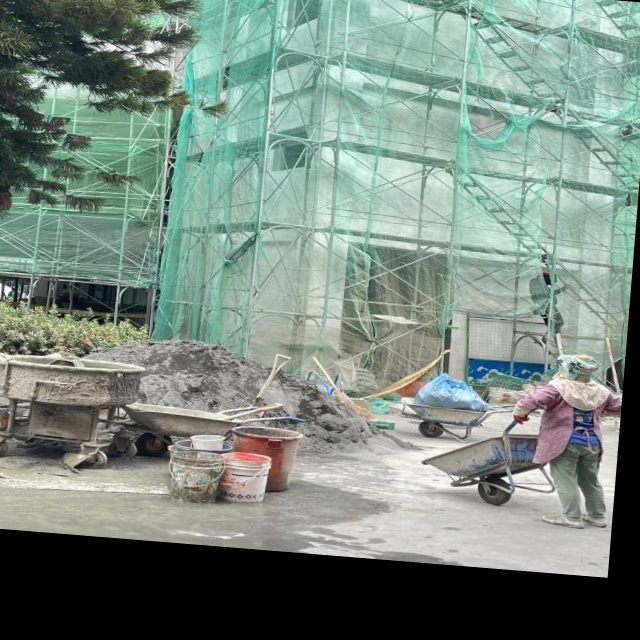Sin_Casco_Mascarrilla: (555, 353, 601, 381)
Sin_Chaleco: (545, 378, 611, 446)
